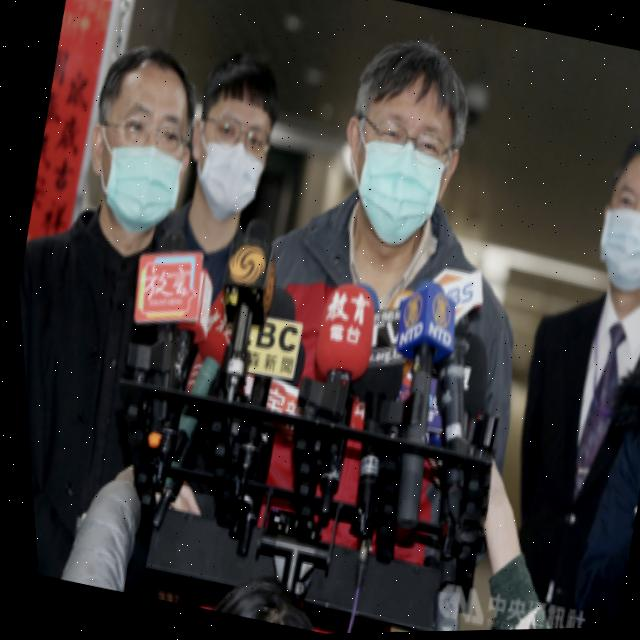Mask: (327, 103, 471, 264), (65, 104, 194, 236), (173, 111, 275, 232), (578, 184, 640, 305)
